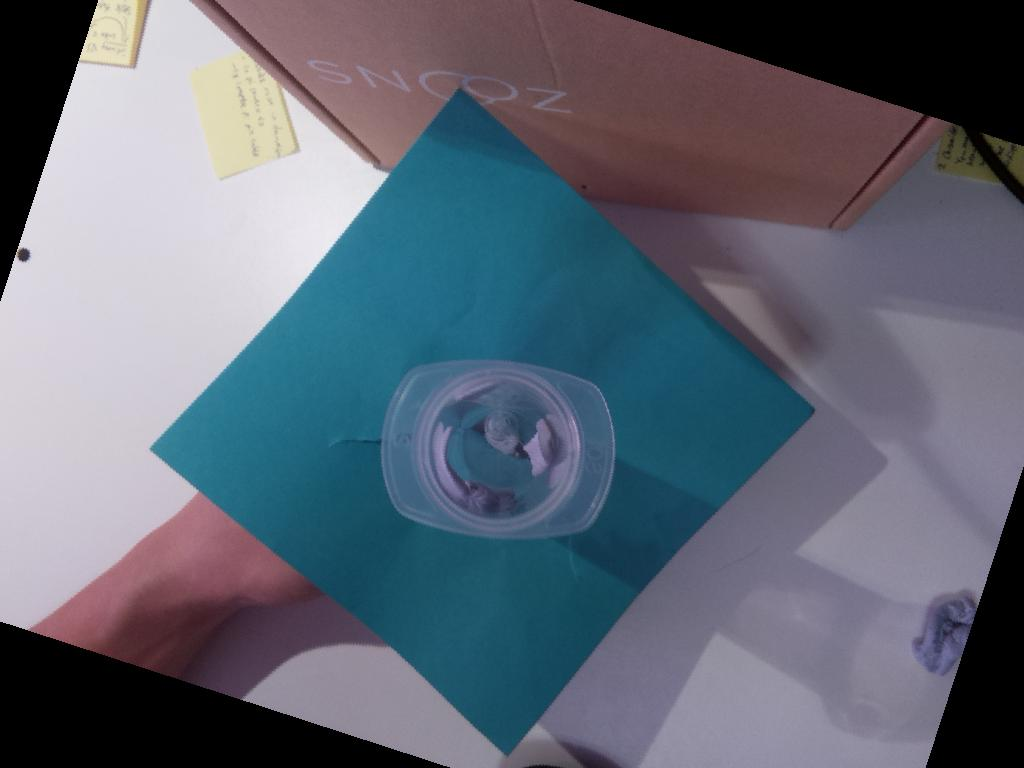dirty: (379, 358, 616, 538)
